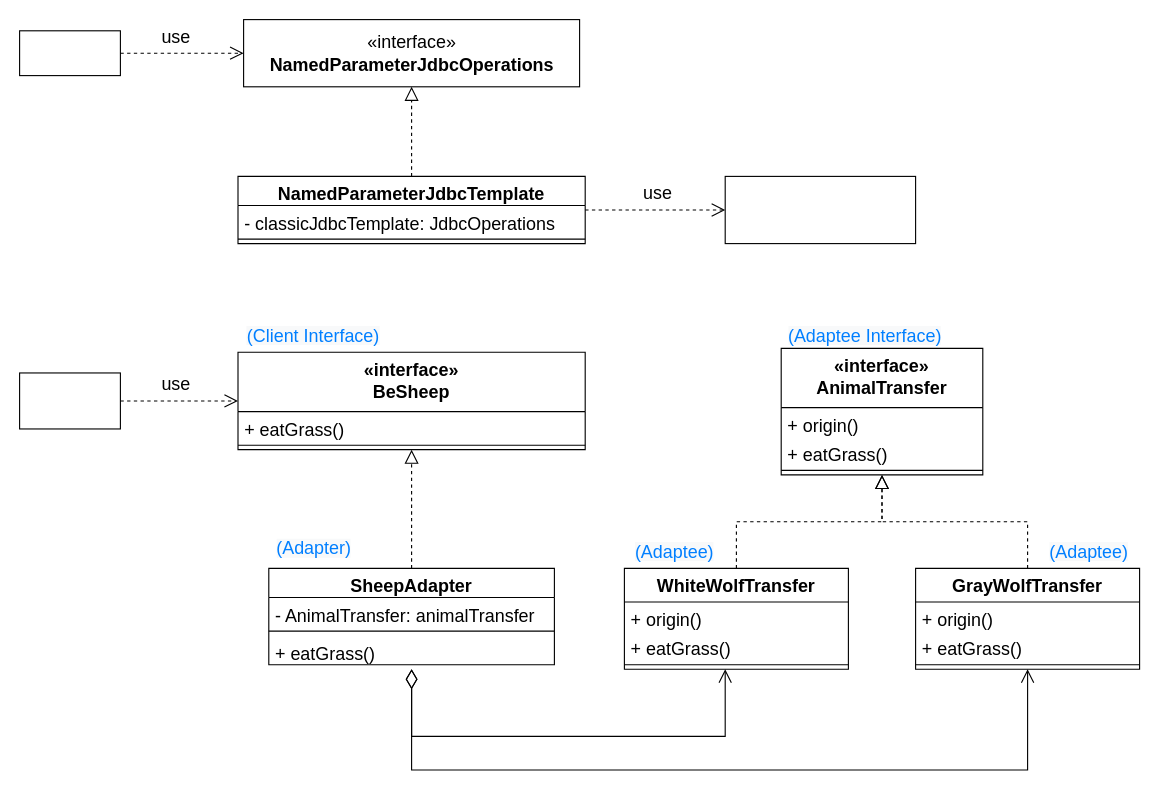
This 1159x810 diagram has some shape labels left out. The shapes that lost their labels are listed below. From the top down, each one's centre as x and y in pixels, then its label:
At [69,53]: "Client".
At [820,209]: "«interface» JdbcOperations".
At [69,400]: "Test (Client)".
